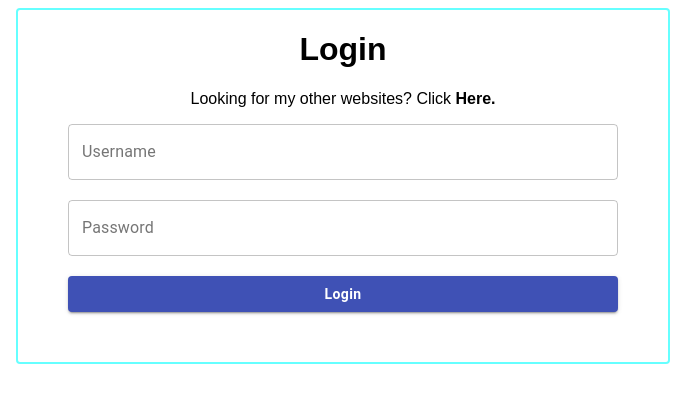
Test: logged-out-state › displays the error message if you click the button after typing in a wrong username and/or password
Type "Fake" into the field labelled "Username". click: x=343, y=152
box: [68,124,618,180]
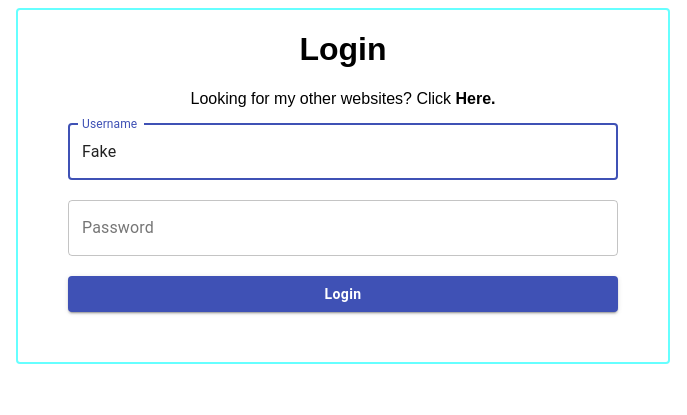
Type "-1" into the field labelled "Password". click: x=343, y=228
box: [68,200,618,256]
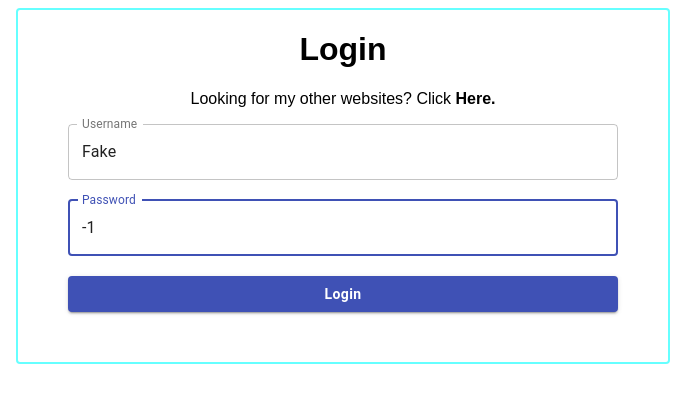
Click the button "Login". click: x=343, y=295
box: [68,276,618,313]
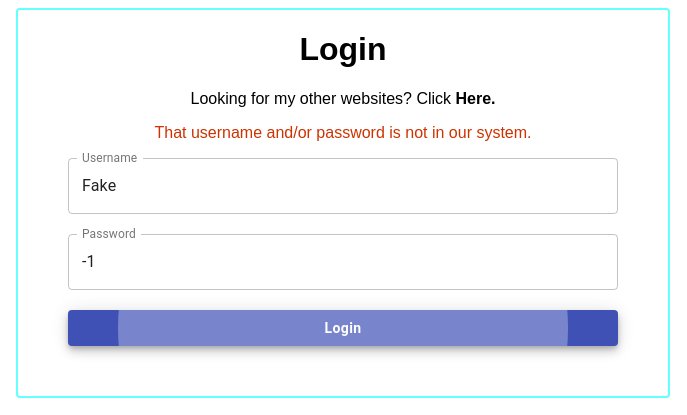
Result: the text "That username and/or password is not in our system." is shown at [154,124,532,141]
